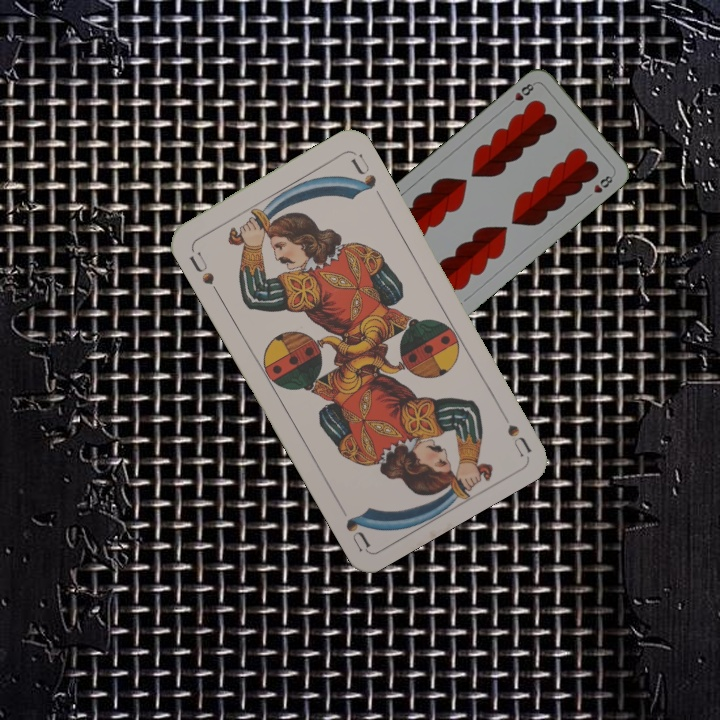H8: (504, 79, 538, 109)
SU: (185, 244, 223, 298), (503, 420, 534, 459)
